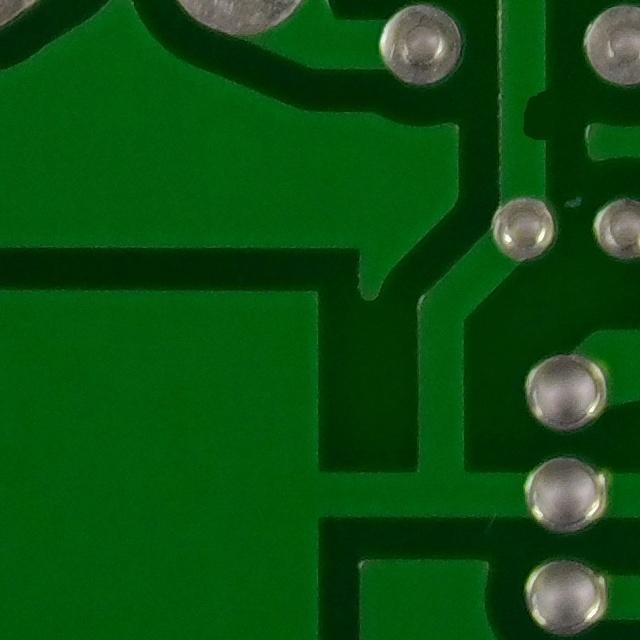mouse_bite: (483, 81, 567, 158)
